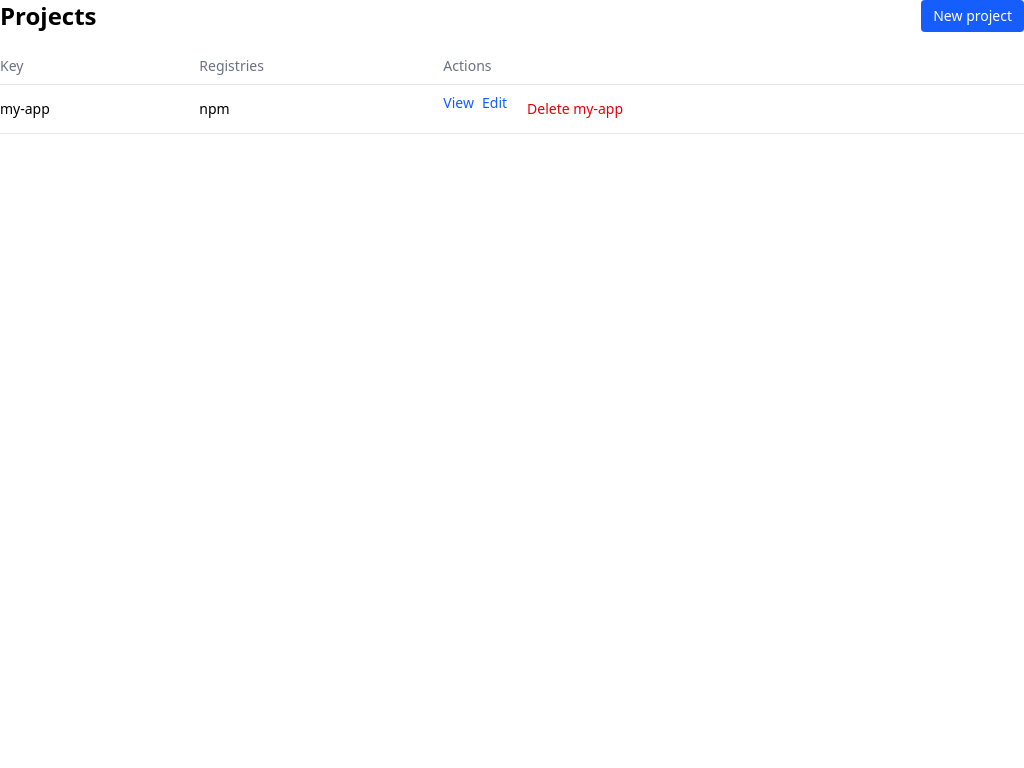
Scenario: ProjectsListPage › shows a not-found error when the project was already deleted
The image size is (1024, 768).
Expected: the row with test id "project-row-my-app" is shown, [0,84,1023,134]
Click the button with test id "project-delete-my-app" at (575, 109), box [515,93,635,125]
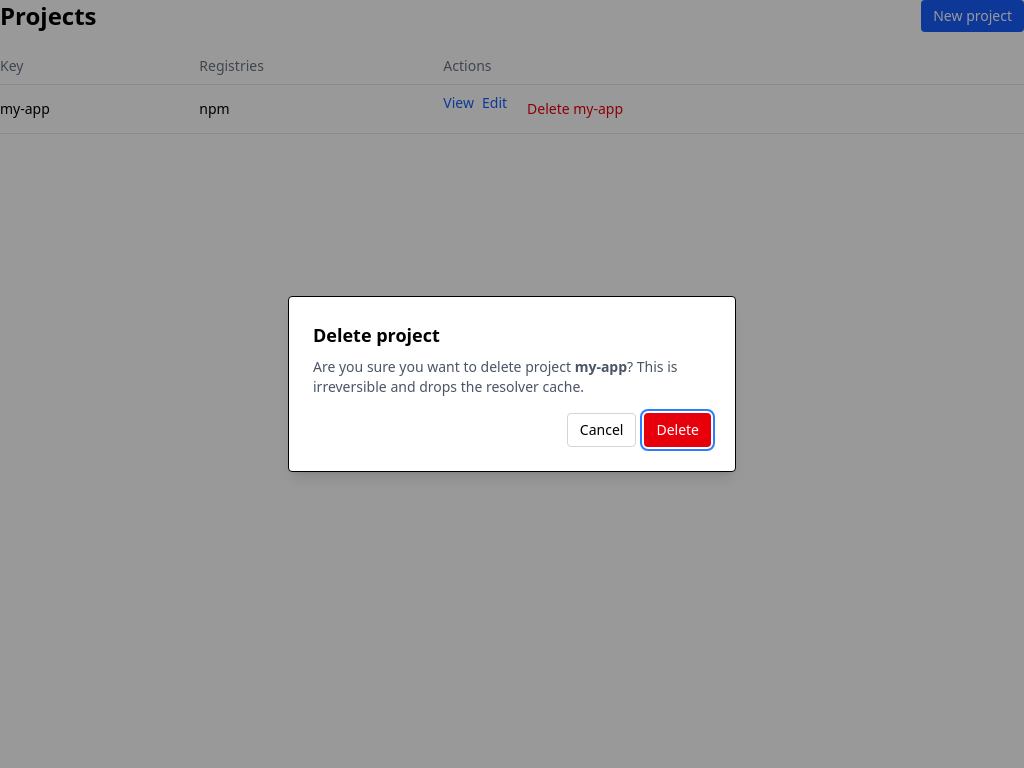
Click the button "Delete" at (678, 430), box [644,413,711,447]
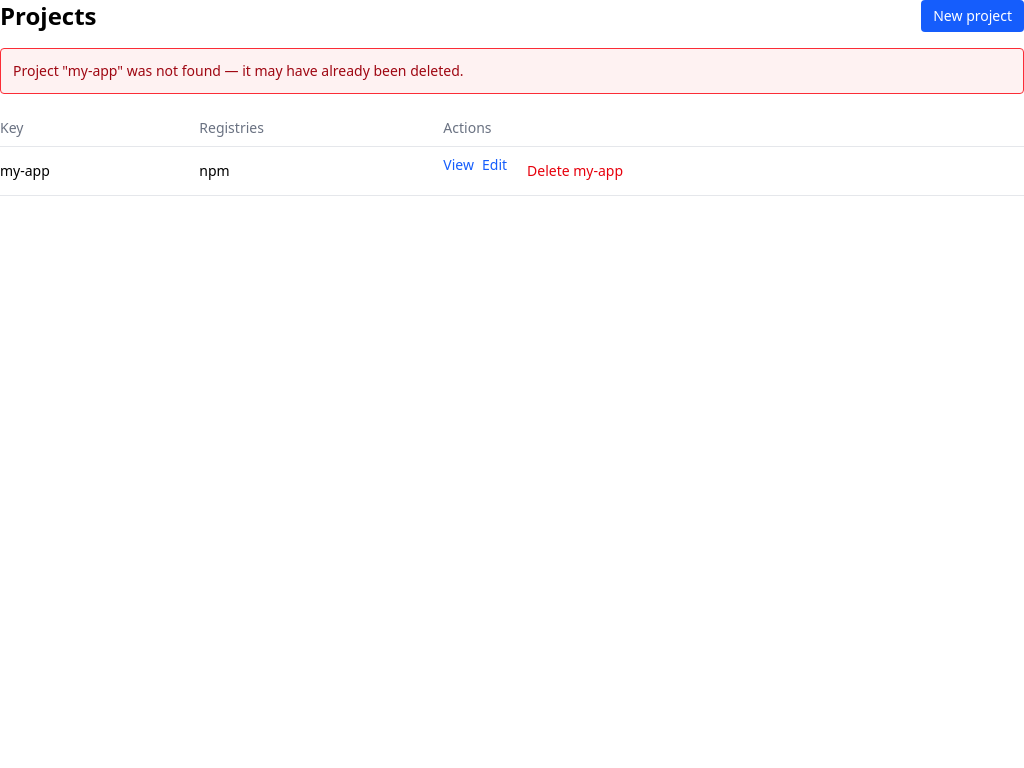
Expected: the row with test id "project-row-my-app" is shown, [0,146,1023,196]
Expected: the message with test id "delete-error" shows "not found", [13,61,464,80]
